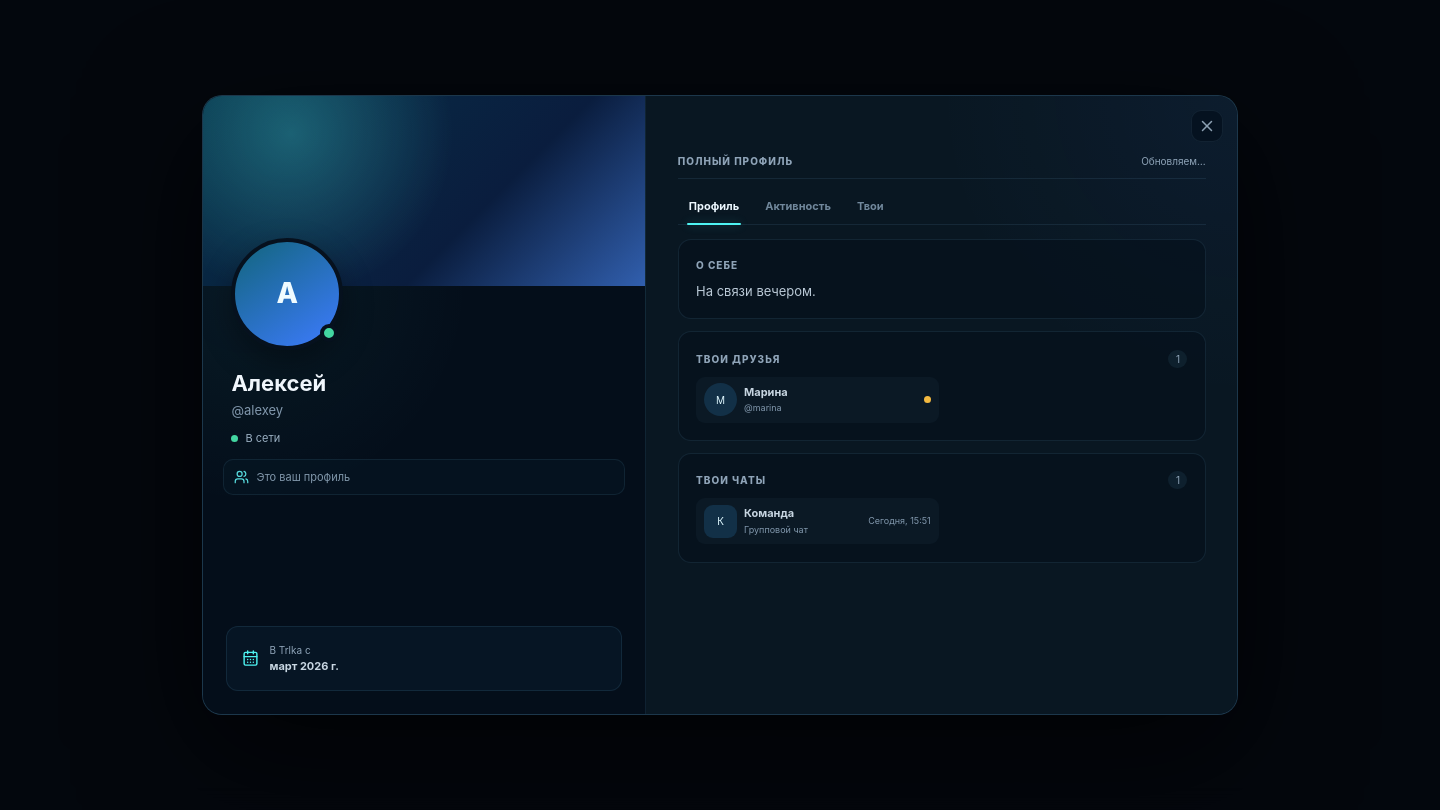
Test: UserProfileDialog › uses personal wording and shows the registration date only once for the own profile
Expected: the heading "ТВОИ ДРУЗЬЯ" is shown, 696,352 -> 780,366
Expected: the heading "ТВОИ ЧАТЫ" is shown, 696,473 -> 766,487
Click the tab "Твои" at (870,207), box 846,190 -> 895,224
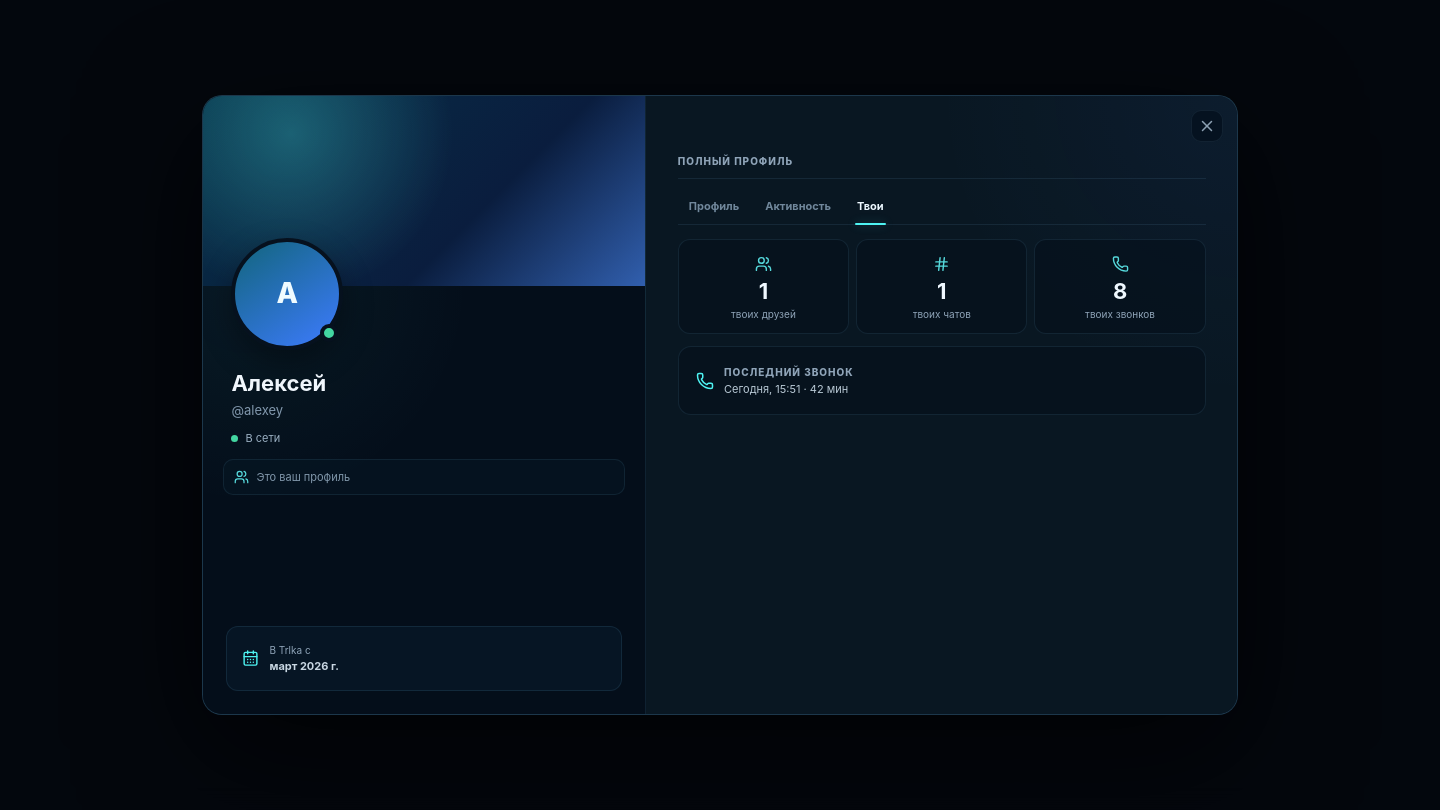
Expected: the text "твоих друзей" is shown, 731,307 -> 796,321
Expected: the text "твоих чатов" is shown, 913,307 -> 971,321
